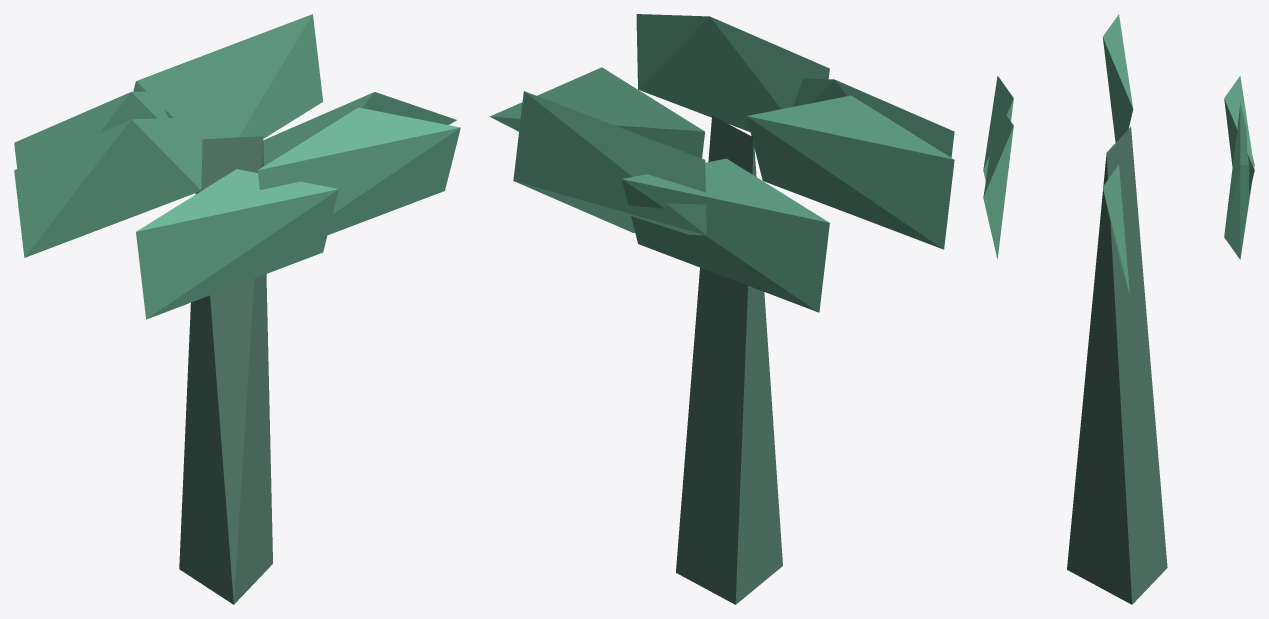
The model's file is Plant_03_LOD2.fbx.
3 renders of one model, left to right at view 1: azimuth 30°, elevation 25°; view 2: azimuth 150°, elevation 25°; view 3: azimuth 270°, elevation 25°, orthographic. The views are drawn at different scales.
Parts seen in each view (by area): view 1: Plant_03_LOD2; view 2: Plant_03_LOD2; view 3: Plant_03_LOD2.
Boxes of the visible parts, bbox=[...] form: Plant_03_LOD2: bbox=[14, 14, 460, 604]; Plant_03_LOD2: bbox=[489, 14, 954, 604]; Plant_03_LOD2: bbox=[983, 14, 1254, 604].
Size of the model in its own units: 265 by 279 by 139.
